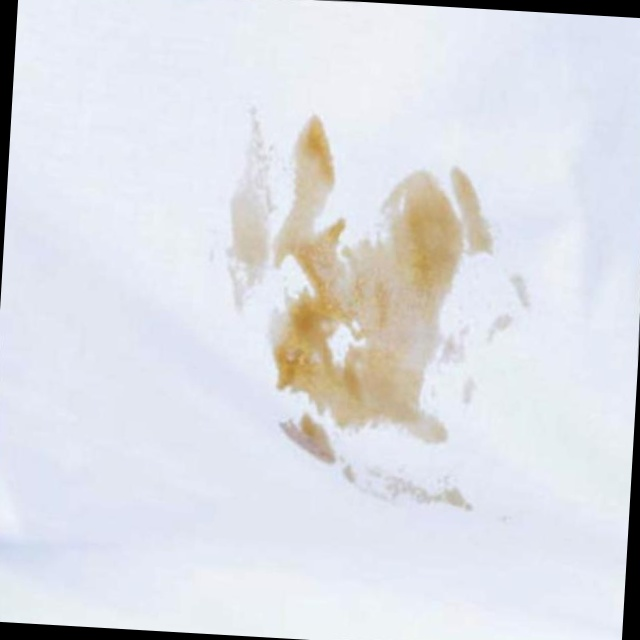coffee: (271, 117, 481, 451), (220, 115, 278, 310)
